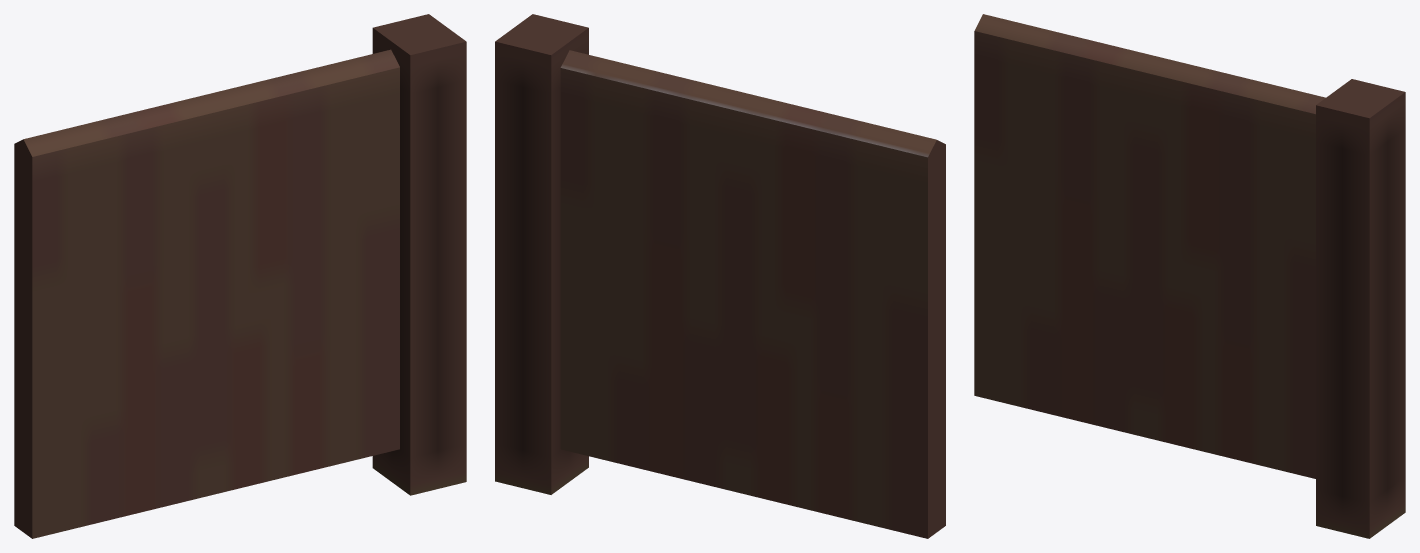
Rendered from fence_end_v1.fbx.
3 renders of one model, left to right at view 1: azimuth 30°, elevation 25°; view 2: azimuth 150°, elevation 25°; view 3: azimuth 330°, elevation 25°, orthographic. The views are drawn at different scales.
Parts seen in each view (by area): view 1: fence_end_v1; view 2: fence_end_v1; view 3: fence_end_v1.
Boxes of the visible parts, x1,y1,x2,y2 form: fence_end_v1: [14, 14, 466, 538]; fence_end_v1: [495, 14, 945, 538]; fence_end_v1: [974, 14, 1405, 538].
Size of the model in its own units: 207 by 205 by 31.82.
